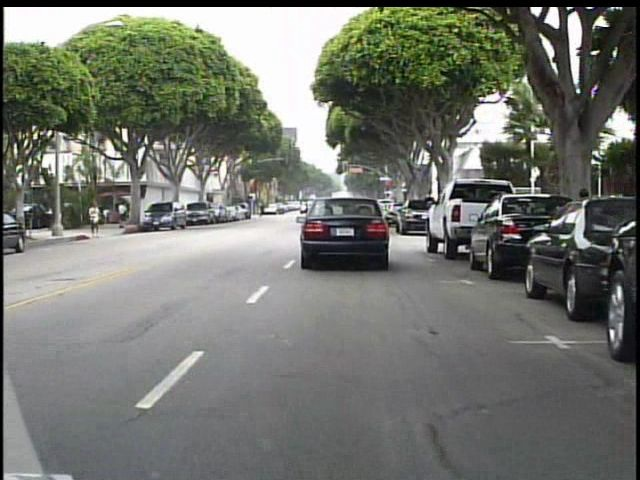person: (84, 197, 103, 238), (118, 198, 131, 229), (254, 200, 268, 222)
